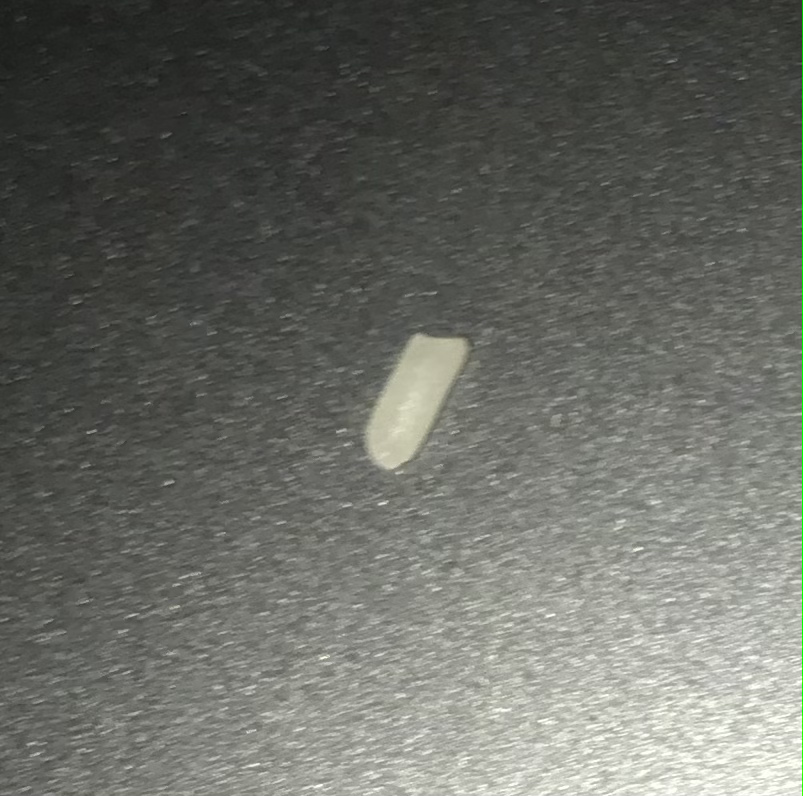Gao Tam Thom: (363, 295, 475, 516)
